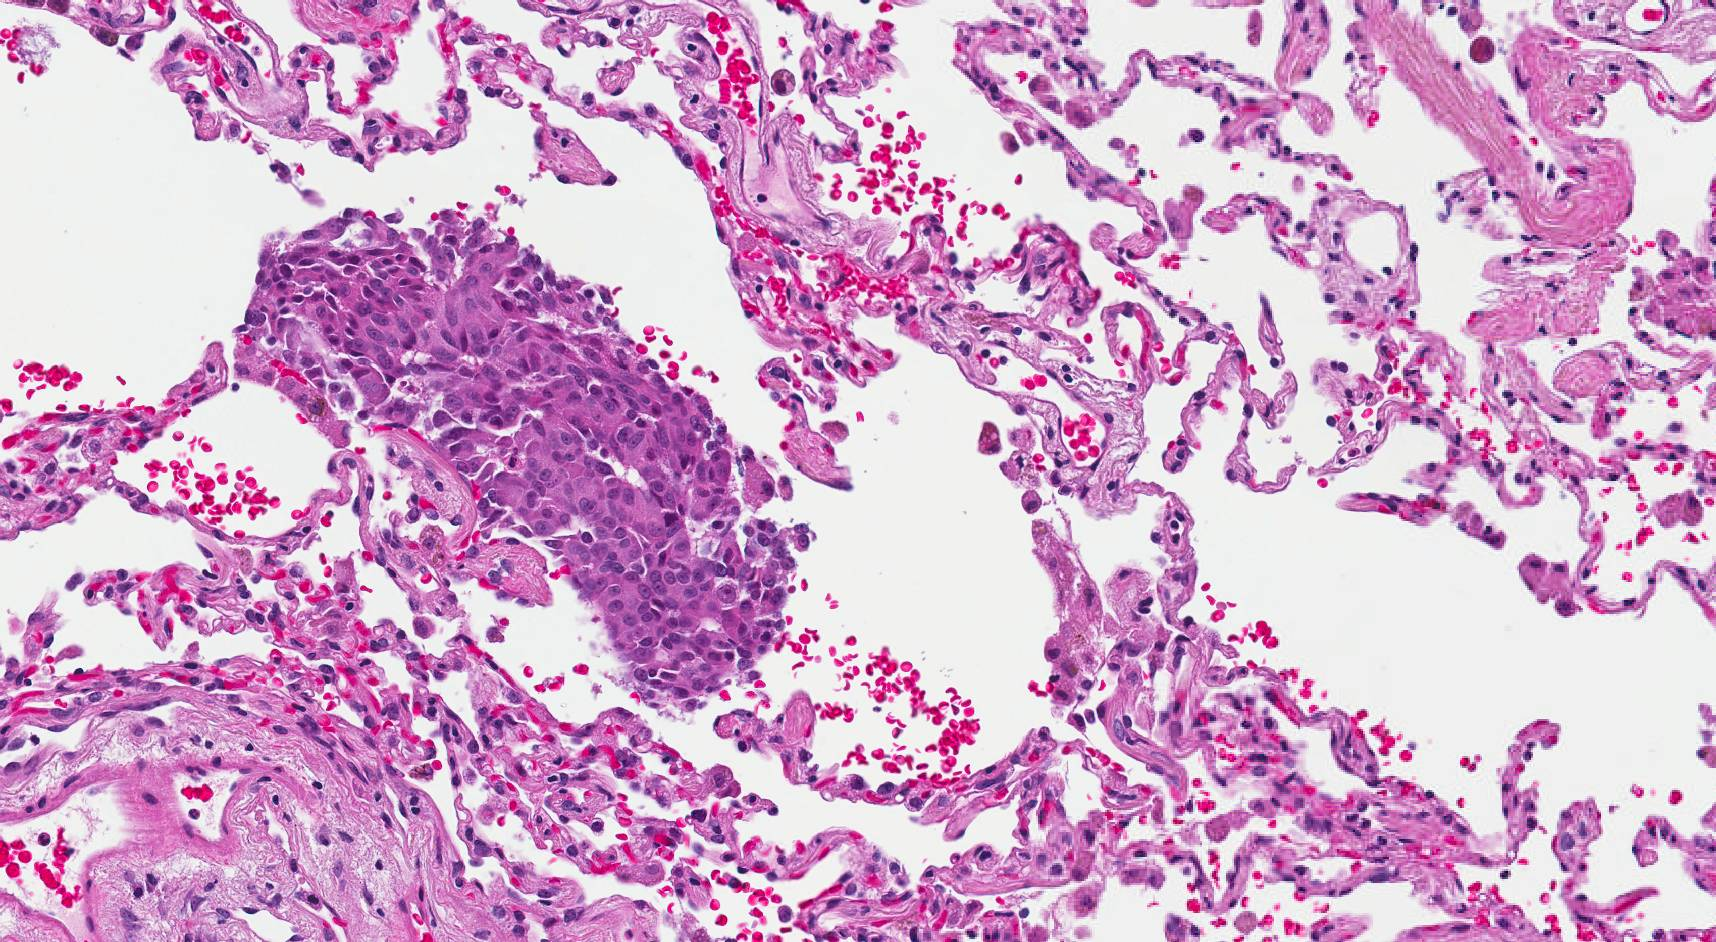stas: (240, 204, 818, 716)
